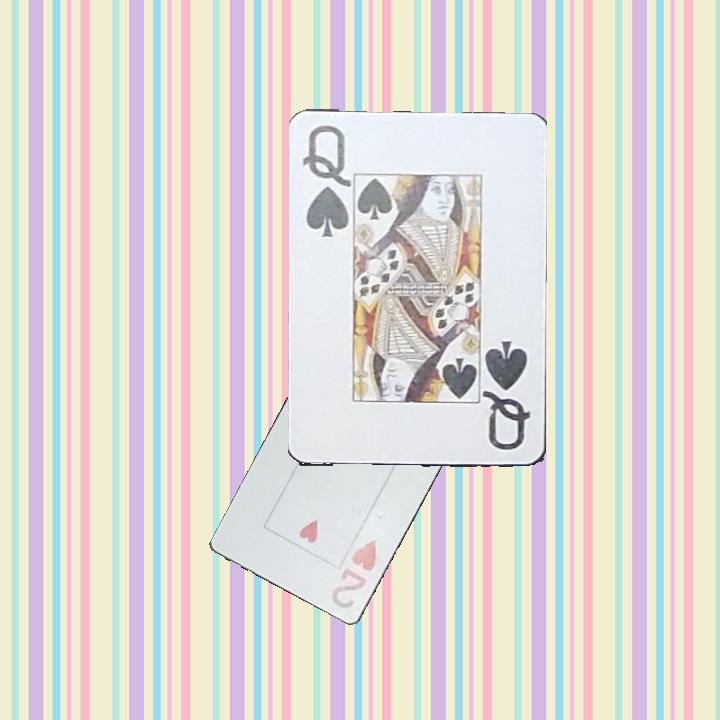2h: (328, 535, 381, 611)
Qs: (299, 121, 351, 240), (484, 338, 534, 454)
